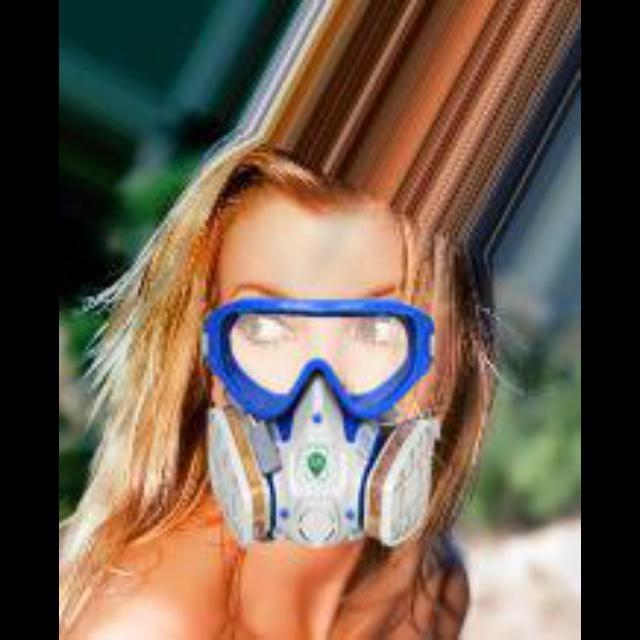suspicion: (169, 158, 465, 570)
